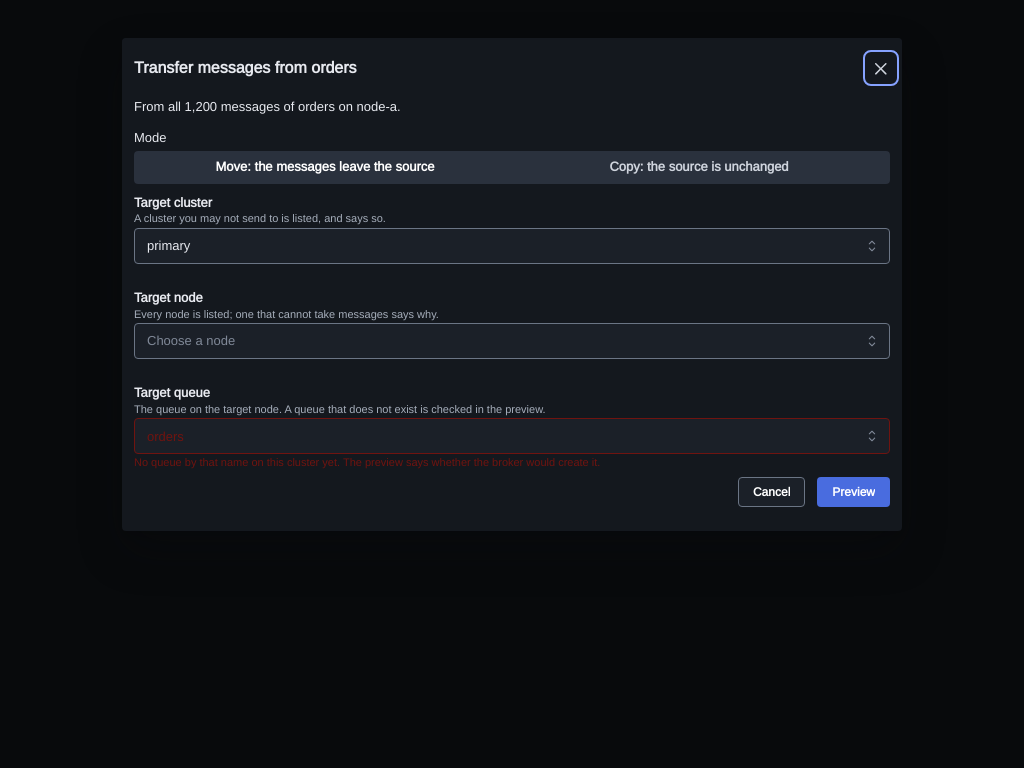
TransferDialog destination › copies instead of moving when the mode is switched
Click the dropdown labelled "Target node" at (512, 341), box top-left (134, 323), bottom-right (890, 359)
(page scrolled)
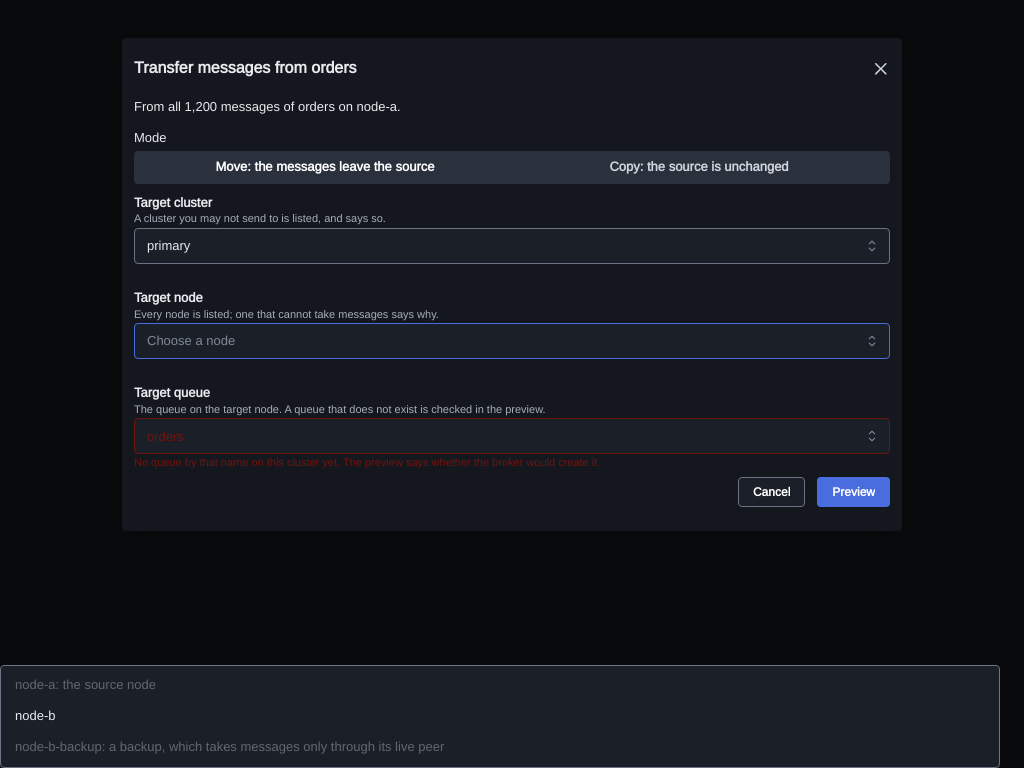
Click the option "node-b" at (35, 715), box top-left (15, 707), bottom-right (56, 724)
(page scrolled)
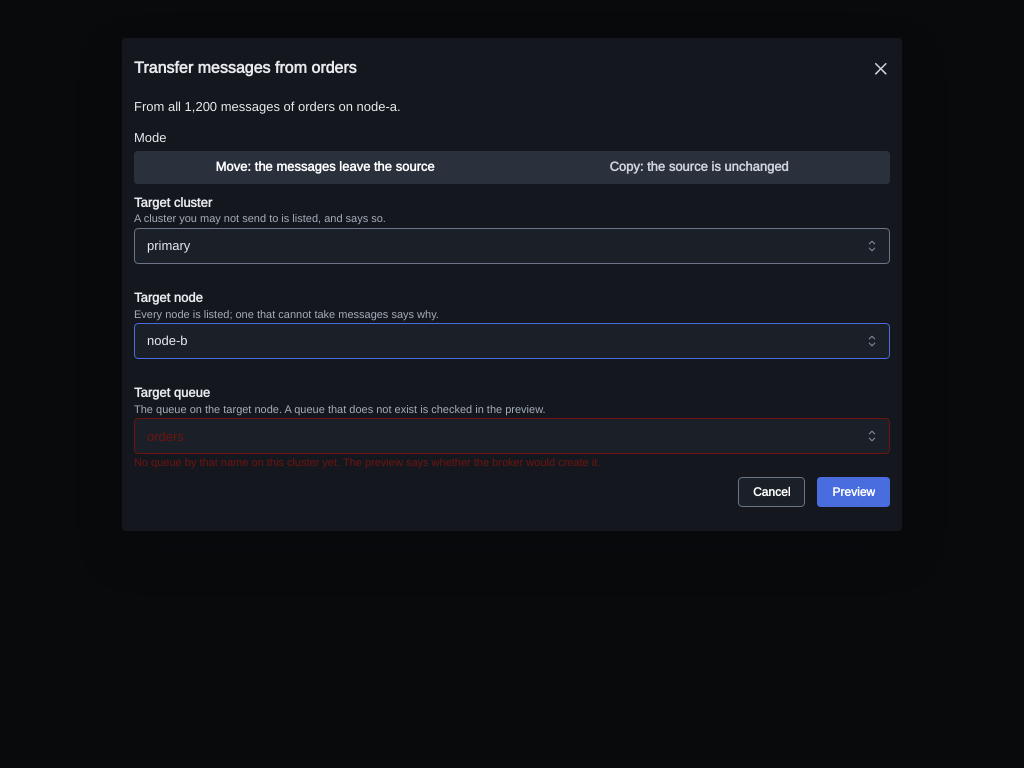
Click the radio button labelled "Copy: the source is unchanged" at (699, 166), box top-left (609, 158), bottom-right (789, 175)
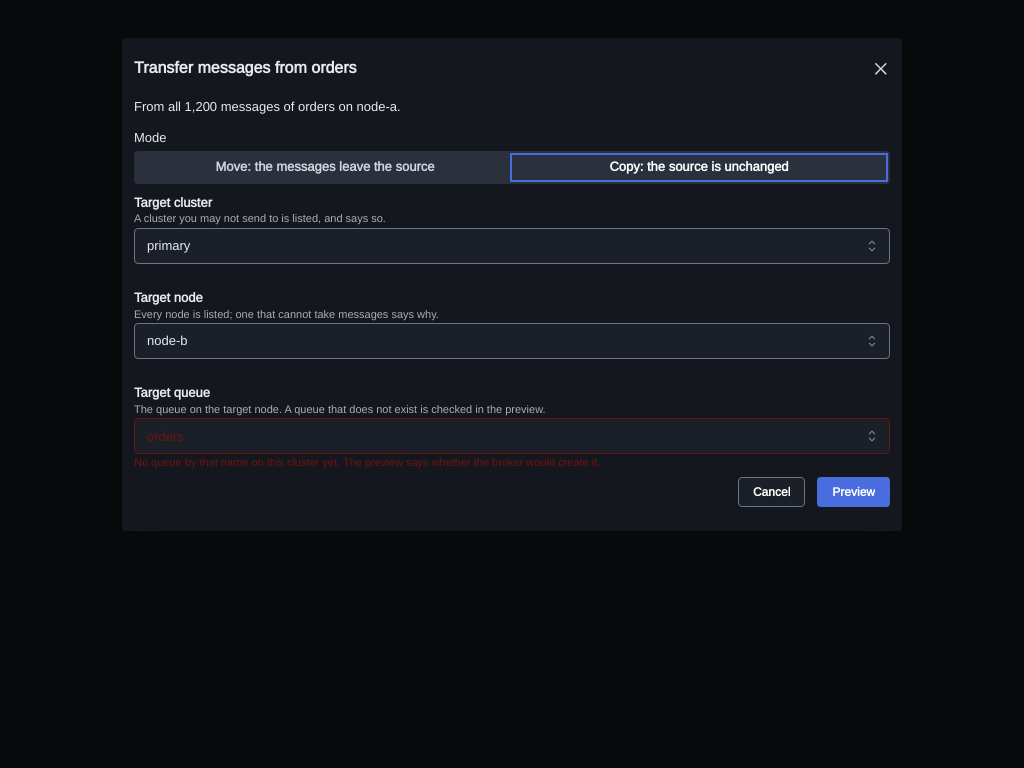
Click the button "Preview" at (854, 492), box top-left (817, 477), bottom-right (890, 507)
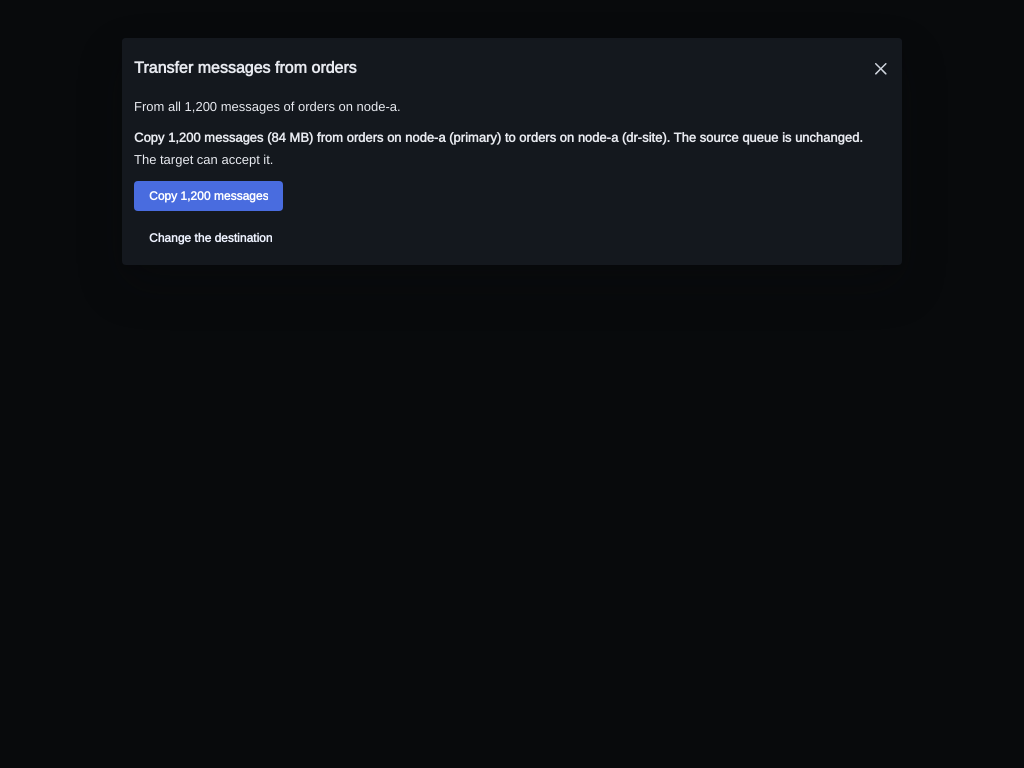
Expected: the text "The source queue is unchanged." is shown, top-left (134, 129), bottom-right (863, 146)
